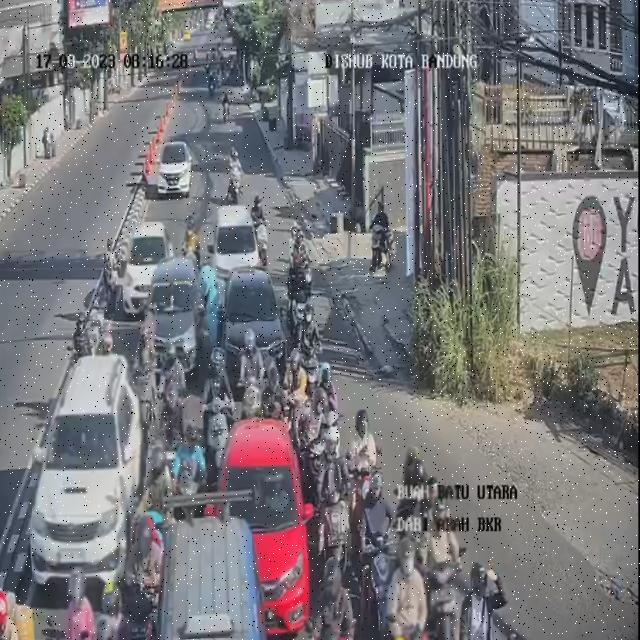cars: (32, 351, 146, 613), (213, 422, 312, 640), (160, 516, 252, 638), (222, 267, 288, 392), (145, 254, 204, 374), (210, 206, 260, 304), (123, 222, 173, 318), (158, 134, 192, 200)
motorcycle: (414, 486, 459, 640), (380, 545, 432, 640), (169, 396, 205, 518), (317, 423, 348, 561), (201, 341, 230, 468), (460, 553, 502, 640), (393, 450, 427, 556), (132, 512, 164, 624), (314, 554, 352, 640), (61, 559, 100, 640), (163, 339, 190, 454), (146, 441, 177, 537), (310, 363, 338, 469), (349, 406, 378, 501), (97, 562, 132, 640), (124, 567, 161, 638), (288, 367, 312, 463), (203, 339, 224, 438), (242, 324, 263, 415), (0, 584, 33, 640), (299, 296, 318, 384), (286, 227, 308, 299), (74, 303, 94, 377), (224, 148, 244, 205), (251, 189, 267, 257), (184, 217, 200, 269)
